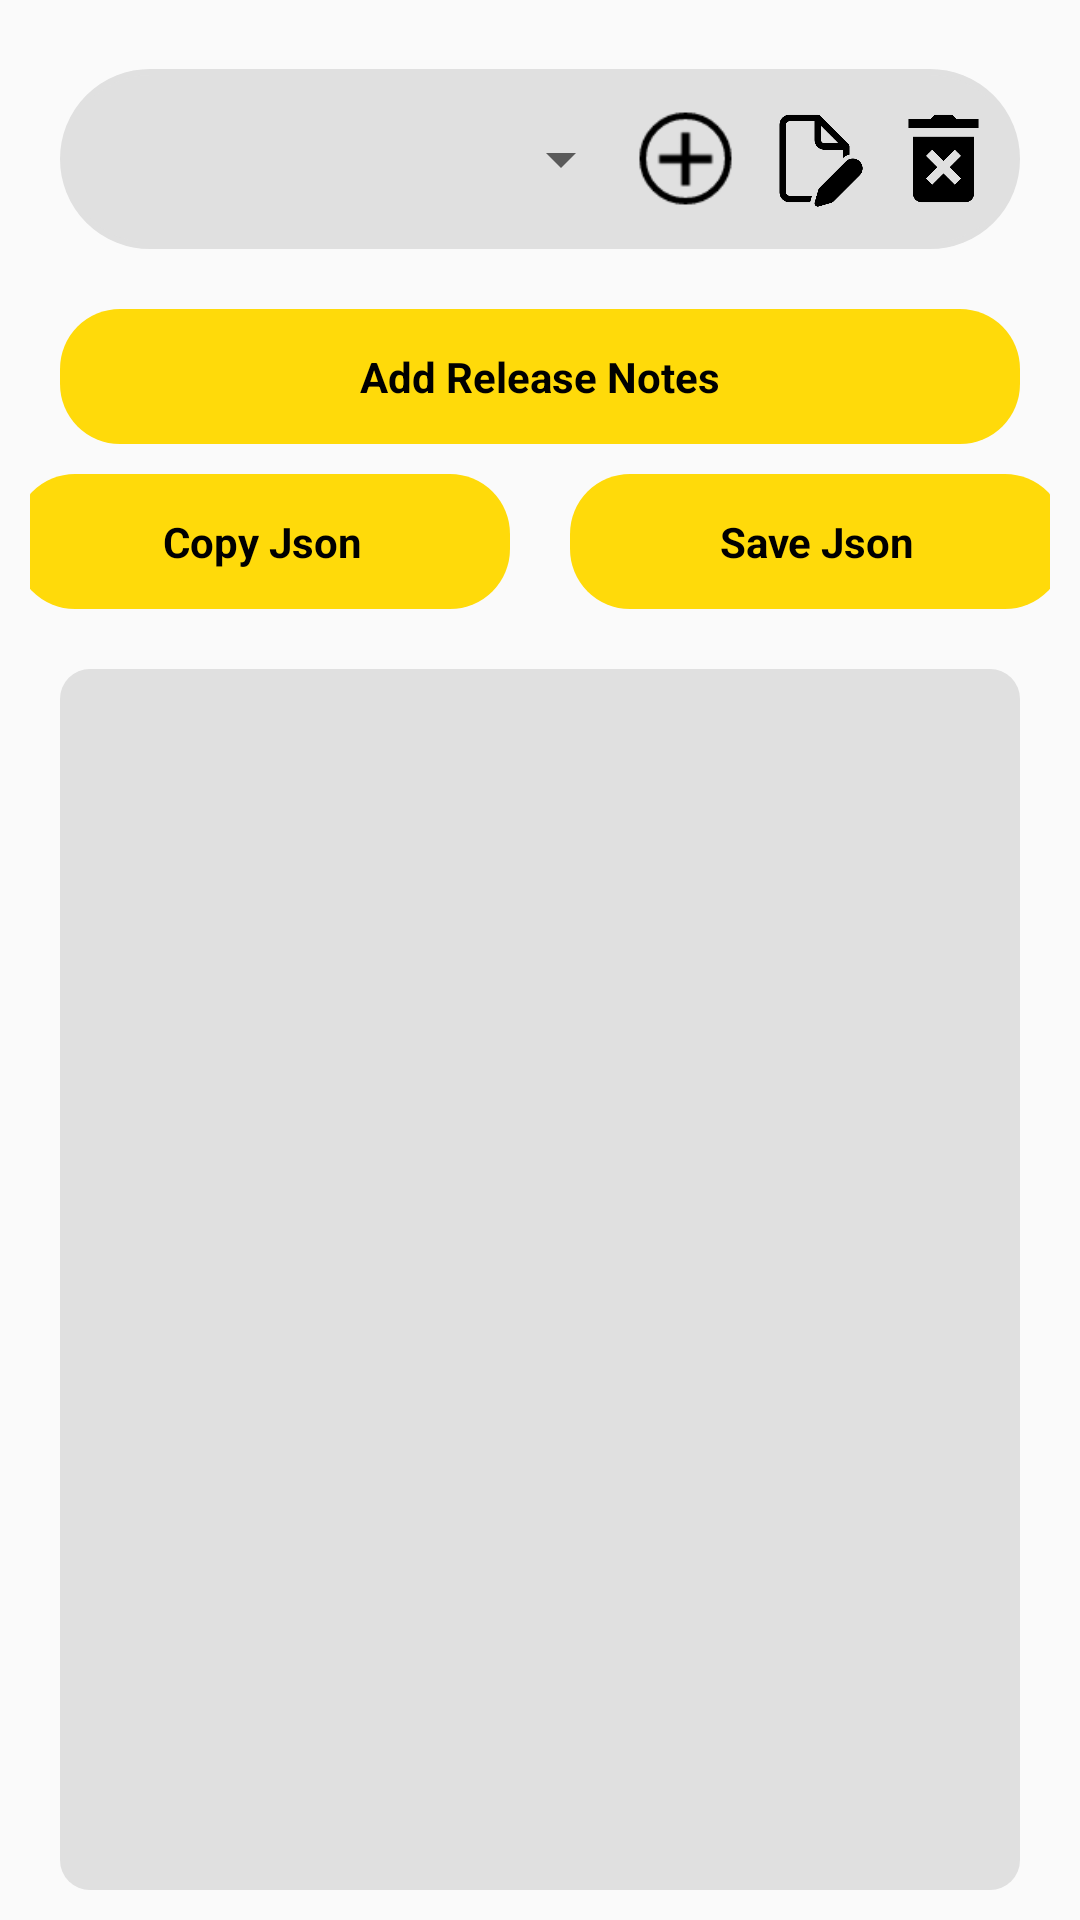

Named icons in this screenshot (1080w x 1920h) and their bounding boxes, BBox(x1, y1, x2, y2):
added: BBox(639, 112, 732, 205)
delete: BBox(908, 115, 979, 202)
edit: BBox(779, 115, 863, 207)
